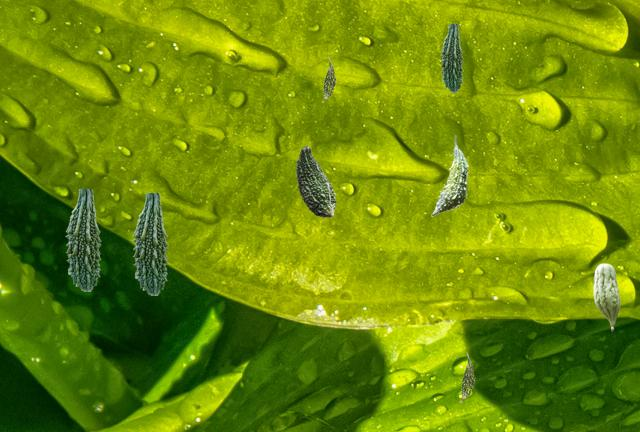ampalaya: (65, 189, 100, 290), (132, 193, 167, 294), (431, 135, 468, 215), (296, 145, 335, 216), (593, 263, 619, 330), (440, 24, 462, 91), (459, 352, 474, 401), (321, 56, 335, 101)
